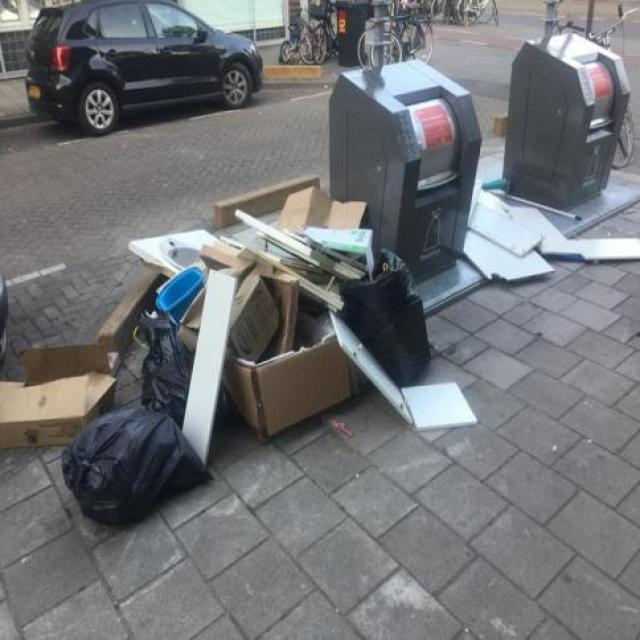Anorganik: (322, 239, 458, 395), (68, 394, 202, 520)
